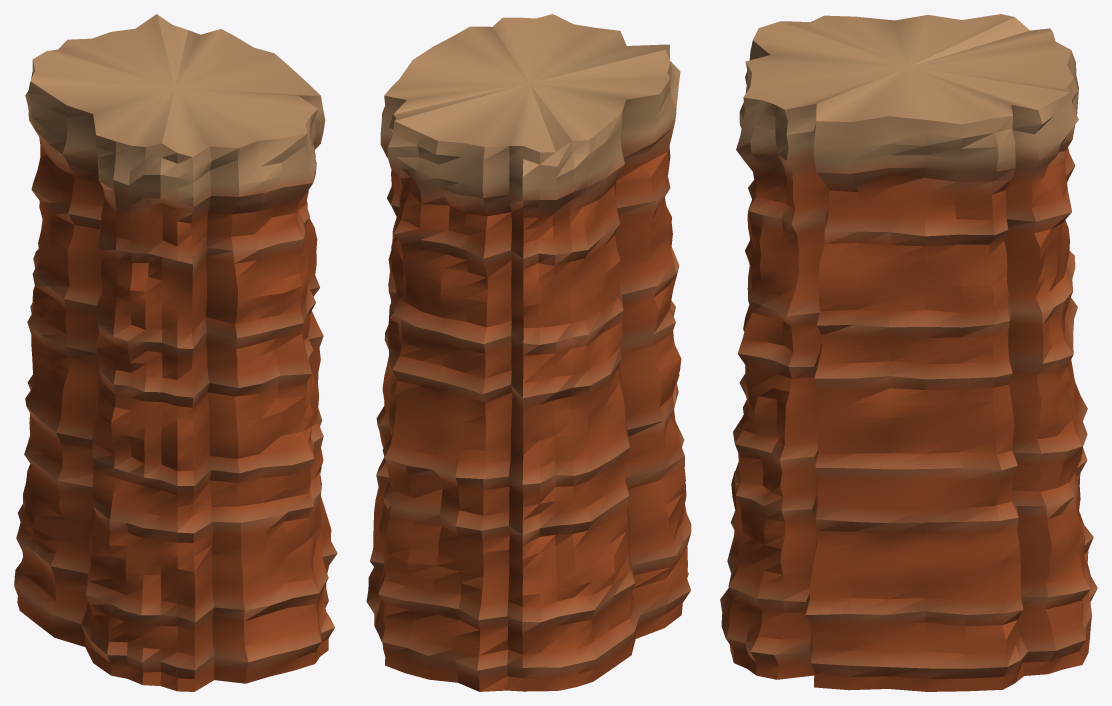
File: terrain-082.glb
3 renders of one model, left to right at view 1: azimuth 30°, elevation 25°; view 2: azimuth 150°, elevation 25°; view 3: azimuth 270°, elevation 25°, orthographic. The views are drawn at different scales.
Visible parts, largest first — view 1: terrain-082; view 2: terrain-082; view 3: terrain-082.
Part boxes in pixels (x1,y1,x2,y2): terrain-082: [14, 14, 337, 691]; terrain-082: [366, 14, 691, 691]; terrain-082: [720, 14, 1097, 691].
Bounding box in the file's own units: 22.92 × 49.89 × 29.8.
